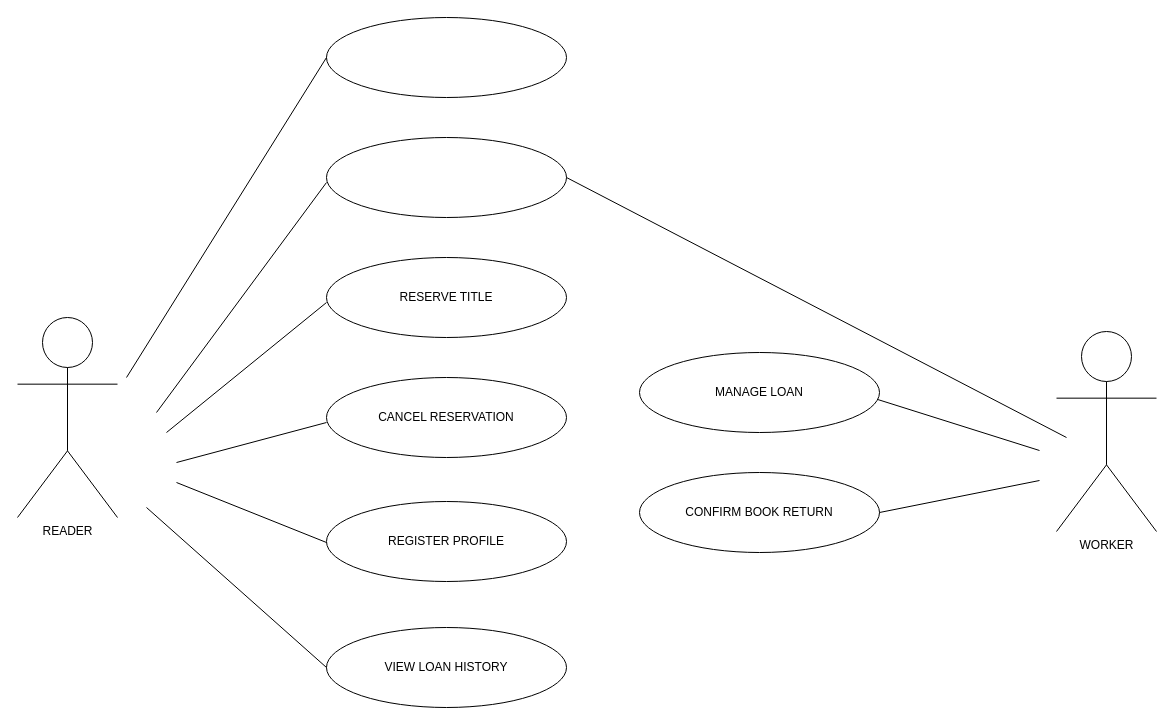
The diagram is 1174 pixels wide and 725 high, and some of its shapes have lost their labels. Here are the shapes that lost their labels. From the top down, the centre of each, then its label:
At point (446, 57): "LOG INTO SYSTEM".
At point (446, 177): "SEARCH FOR TITLE".
